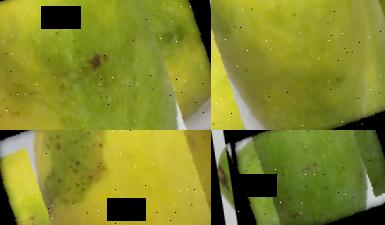PartiallyRipe: (0, 0, 211, 130), (211, 0, 385, 130)
Ripe: (0, 130, 211, 225)
Unripe: (225, 130, 385, 225)
